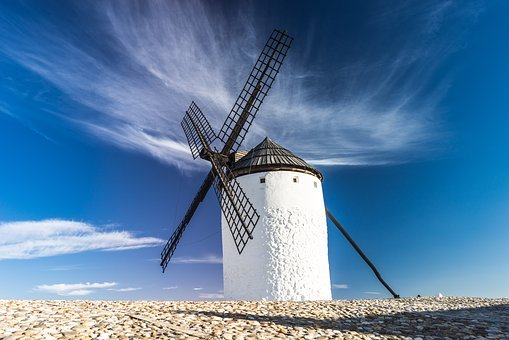sky: (2, 4, 509, 297)
